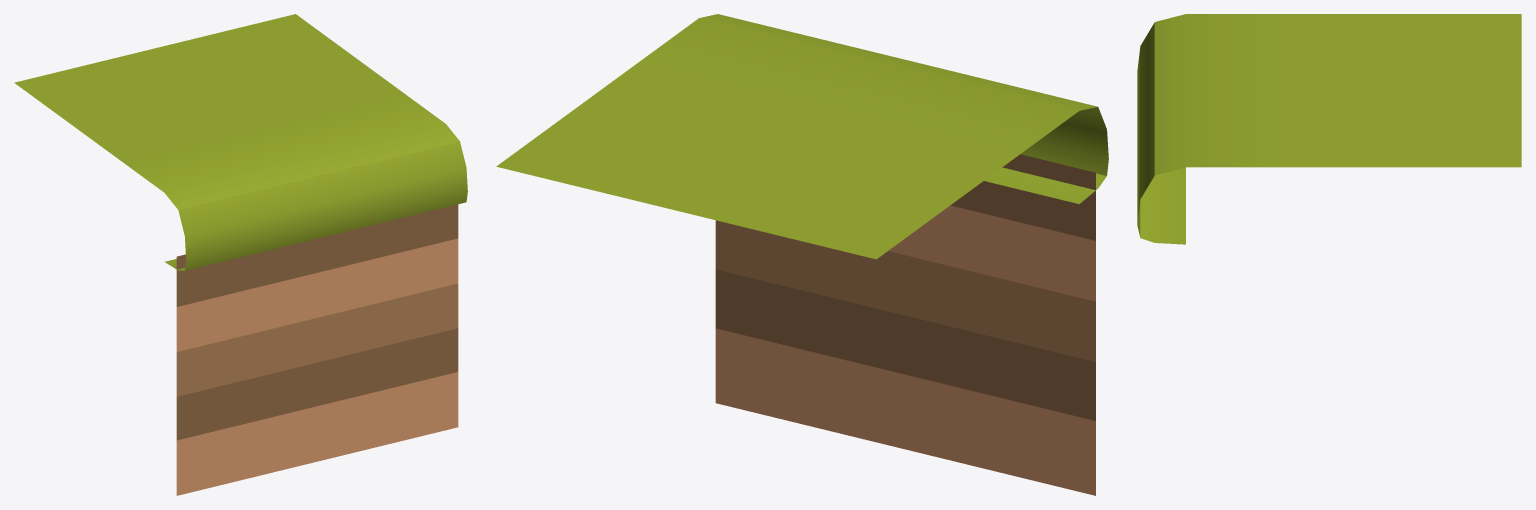
File: Cube_Grass_Side_Tall.glb
3 renders of one model, left to right at view 1: azimuth 30°, elevation 25°; view 2: azimuth 150°, elevation 25°; view 3: azimuth 270°, elevation 25°, orthographic. The views are drawn at different scales.
Visible parts, largest first — view 1: Cube_Grass_Side_Tall; view 2: Cube_Grass_Side_Tall; view 3: Cube_Grass_Side_Tall.
Boxes of the visible parts, x1,y1,x2,y2 form: Cube_Grass_Side_Tall: [14, 14, 467, 495]; Cube_Grass_Side_Tall: [496, 14, 1108, 495]; Cube_Grass_Side_Tall: [1137, 14, 1521, 244].
Size of the model in its own units: 2 by 2 by 2.12.
